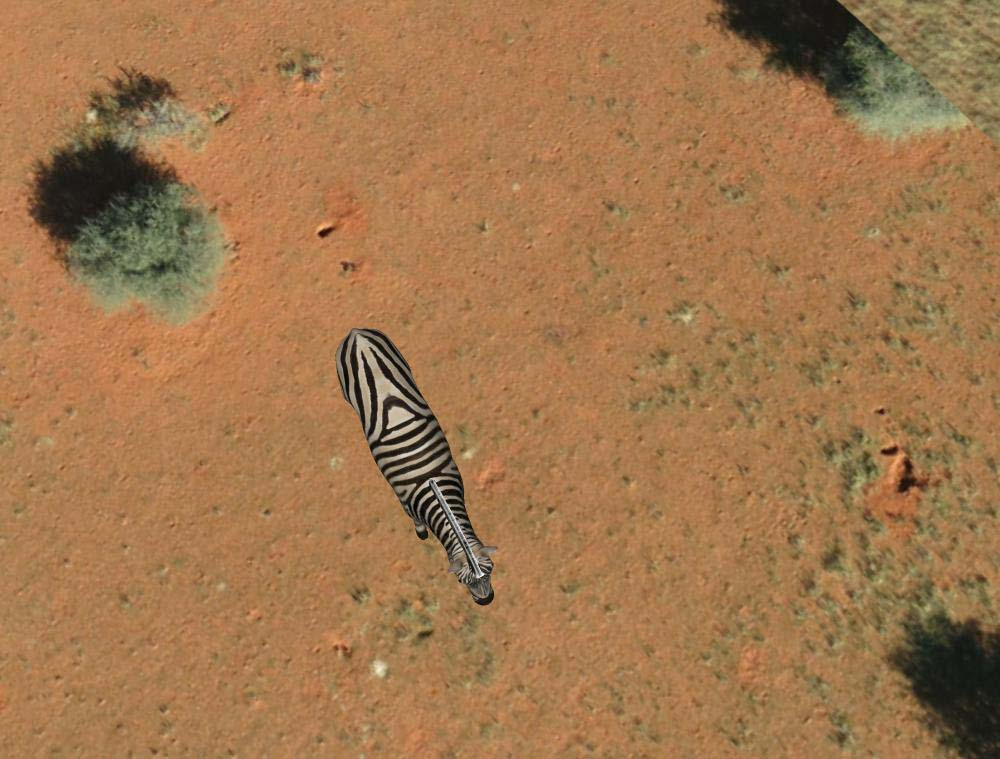zebra: (334, 318, 498, 608)
